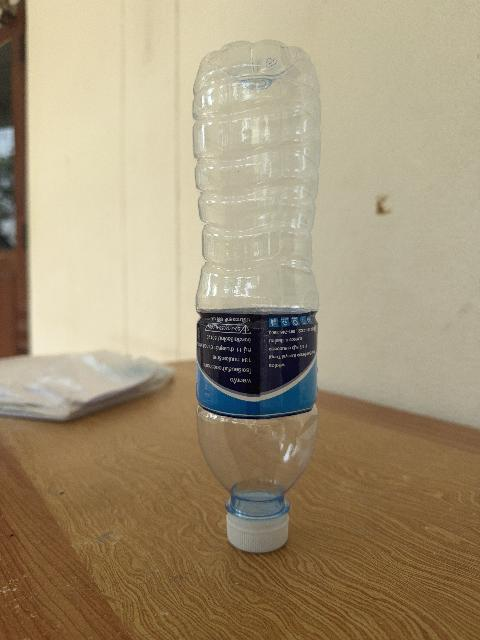bottle: (194, 41, 320, 552)
